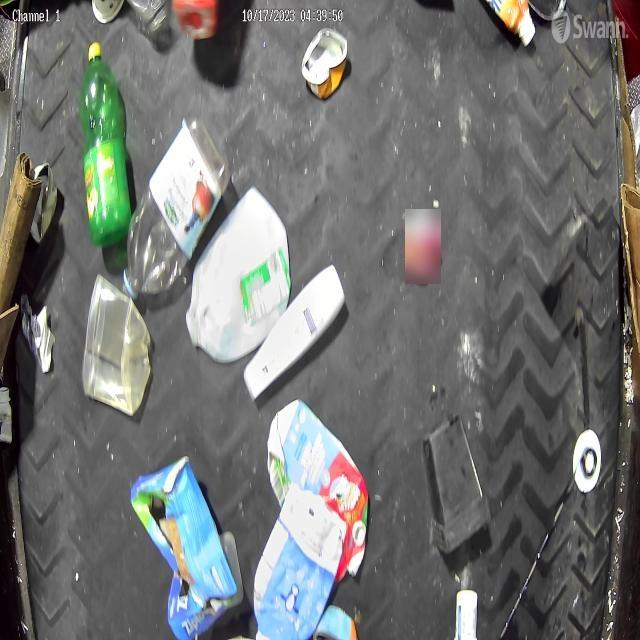milk_jug: (187, 185, 293, 364)
non_white_jug: (266, 398, 368, 580), (252, 484, 342, 638)
plastic_bottle: (121, 114, 231, 301)
